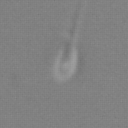normal: (55, 1, 96, 40)
